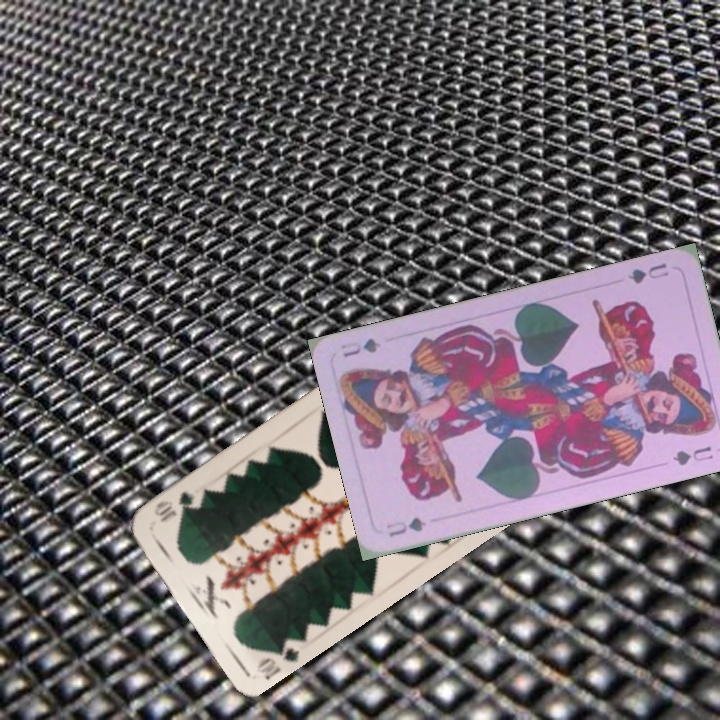G10: (252, 634, 303, 683)
GU: (624, 258, 672, 287), (382, 513, 429, 540)
